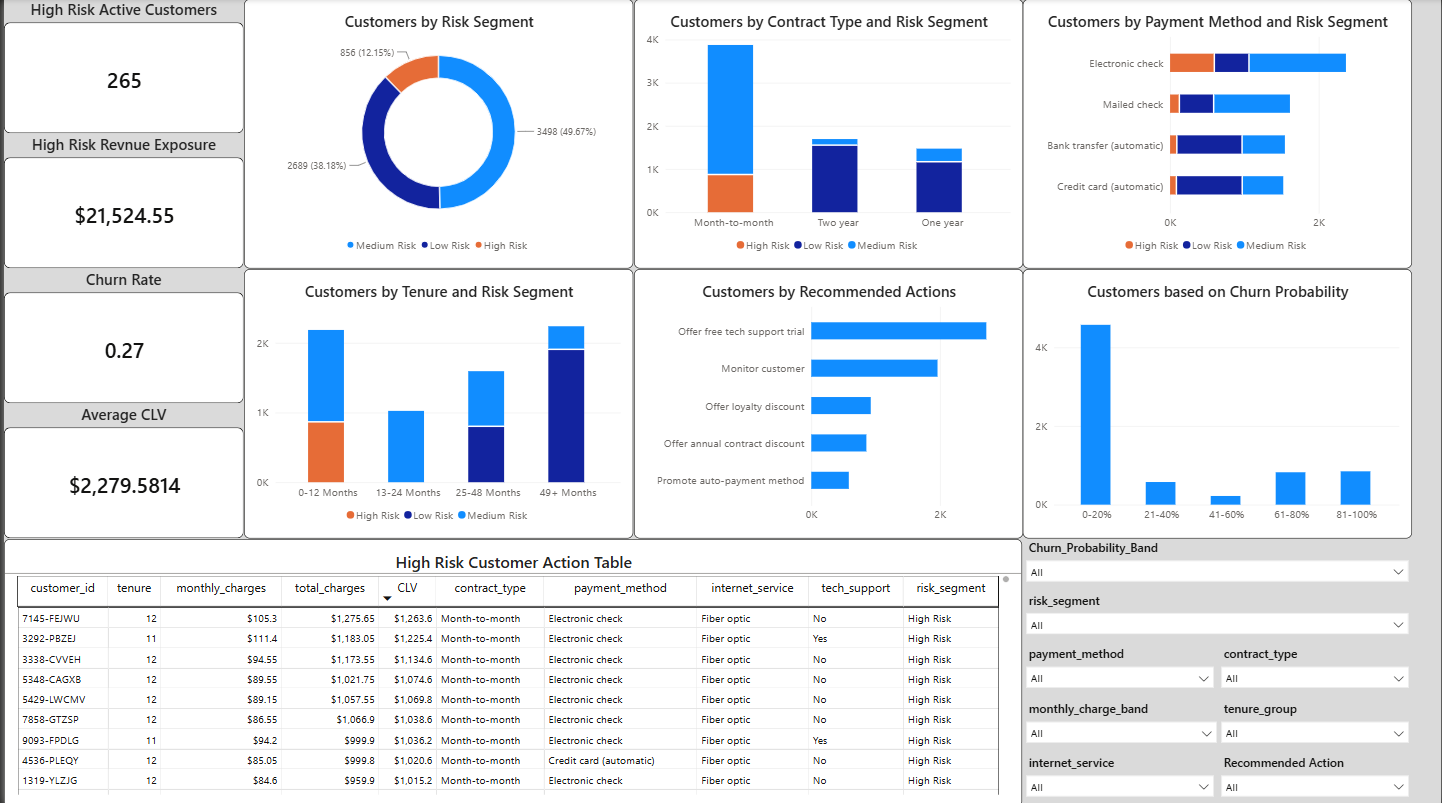

The dashboard page shown, as its layout file describes it:
{"tool":"powerbi","page":{"name":"Customer Risk and Retention Action","canvas":[1920,1080],"ordinal":4},"visuals":[{"type":"donutChart","title":"Customers by Risk Segment","fields":{"Category":["customer_churn_features.risk_segment"],"Y":["CountNonNull(customer_churn_features.customer_id)"]},"box":[320,0,520,360],"z":0},{"type":"cardVisual","title":"High Risk Active Customers","fields":{"Data":["customer_churn_features.high_risk_customers"]},"box":[0,0,320,180],"z":1000},{"type":"columnChart","title":"Customers by Contract Type and Risk Segment","fields":{"Category":["dim_contract.contract_type"],"Series":["customer_churn_features.risk_segment"],"Y":["CountNonNull(customer_churn_features.customer_id)"]},"box":[841,0,520,360],"z":2000},{"type":"barChart","title":"Customers by Payment Method and Risk Segment","fields":{"Category":["dim_contract.payment_method"],"Series":["customer_churn_features.risk_segment"],"Y":["CountNonNull(customer_churn_features.customer_id)"]},"box":[1361,0,520,360],"z":3000},{"type":"columnChart","title":"Customers by Tenure and Risk Segment","fields":{"Category":["customer_churn_features.tenure_group"],"Series":["customer_churn_features.risk_segment"],"Y":["CountNonNull(customer_churn_features.customer_id)"]},"box":[320,361,520,360],"z":4000},{"type":"clusteredBarChart","title":"Customers by Recommended Actions","fields":{"Category":["customer_churn_features.Recommended Action"],"Y":["CountNonNull(customer_churn_features.customer_id)"]},"box":[841,361,520,360],"z":5000},{"type":"tableEx","title":"High Risk Customer Action Table","fields":{"Values":["fact_customer_revenue.customer_id","fact_customer_revenue.tenure","fact_customer_revenue.monthly_charges","fact_customer_revenue.total_charges","fact_customer_revenue.CLV","dim_contract.contract_type","dim_contract.payment_method","dim_services.internet_service","dim_services.tech_support","customer_churn_features.risk_segment"]},"box":[0,721,1360,358],"z":6000},{"type":"cardVisual","title":"High Risk Revnue Exposure","fields":{"Data":["customer_churn_features.High_Risk Revenue Exposure"]},"box":[0,181,320,180],"z":7000},{"type":"slicer","fields":{"Values":["customer_churn_features.risk_segment"]},"box":[1361,792,520,72],"z":8000},{"type":"cardVisual","title":"Churn Rate","fields":{"Data":["customer_churn_features.churn_rate"]},"box":[0,361,320,180],"z":9000},{"type":"cardVisual","title":"Average CLV","fields":{"Data":["customer_churn_features.average_CLV"]},"box":[0,541,320,180],"z":10000},{"type":"slicer","fields":{"Values":["dim_contract.contract_type"]},"box":[1621,864,260,72],"z":11000},{"type":"slicer","fields":{"Values":["dim_contract.payment_method"]},"box":[1361,864,260,72],"z":12000},{"type":"slicer","fields":{"Values":["customer_churn_features.Recommended Action"]},"box":[1621,1008,260,72],"z":13000},{"type":"slicer","fields":{"Values":["dim_services.internet_service"]},"box":[1361,1008,260,72],"z":14000},{"type":"slicer","fields":{"Values":["customer_churn_features.monthly_charge_band"]},"box":[1361,936,264,72],"z":15000},{"type":"slicer","fields":{"Values":["customer_churn_features.tenure_group"]},"box":[1621,936,260,72],"z":16000},{"type":"clusteredColumnChart","title":"Customers based on Churn Probability","fields":{"Category":["Customer_Churn_Risk_output.Churn_Probability_Band"],"Y":["CountNonNull(Customer_Churn_Risk_output.customerID)"]},"box":[1361,361,520,360],"z":17000},{"type":"slicer","fields":{"Values":["Customer_Churn_Risk_output.Churn_Probability_Band"]},"box":[1361,721,520,72],"z":18000}]}

Visuals, with their boxes in screenshot pixels (x1, y1, x2, y2), scaled from the page's 1920x1080 canvas onto the 1442x803 screenshot:
"Customers by Risk Segment" donutChart: 240, 0, 631, 268
"High Risk Active Customers" cardVisual: 0, 0, 240, 134
"Customers by Contract Type and Risk Segment" columnChart: 632, 0, 1022, 268
"Customers by Payment Method and Risk Segment" barChart: 1022, 0, 1413, 268
"Customers by Tenure and Risk Segment" columnChart: 240, 268, 631, 536
"Customers by Recommended Actions" clusteredBarChart: 632, 268, 1022, 536
"High Risk Customer Action Table" tableEx: 0, 536, 1021, 802
"High Risk Revnue Exposure" cardVisual: 0, 135, 240, 268
slicer - customer_churn_features.risk_segment: 1022, 589, 1413, 642
"Churn Rate" cardVisual: 0, 268, 240, 402
"Average CLV" cardVisual: 0, 402, 240, 536
slicer - dim_contract.contract_type: 1217, 642, 1413, 696
slicer - dim_contract.payment_method: 1022, 642, 1217, 696
slicer - customer_churn_features.Recommended Action: 1217, 749, 1413, 802
slicer - dim_services.internet_service: 1022, 749, 1217, 802
slicer - customer_churn_features.monthly_charge_band: 1022, 696, 1220, 749
slicer - customer_churn_features.tenure_group: 1217, 696, 1413, 749
"Customers based on Churn Probability" clusteredColumnChart: 1022, 268, 1413, 536
slicer - Customer_Churn_Risk_output.Churn_Probability_Band: 1022, 536, 1413, 590
